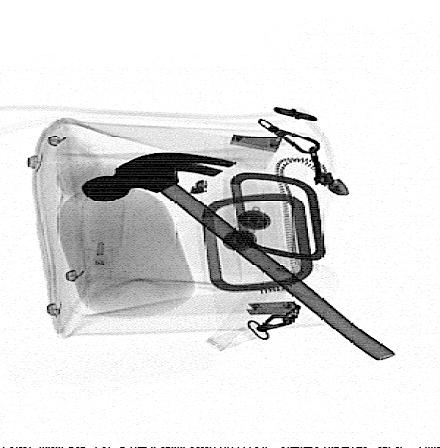Hammer: (81, 152, 398, 361)
